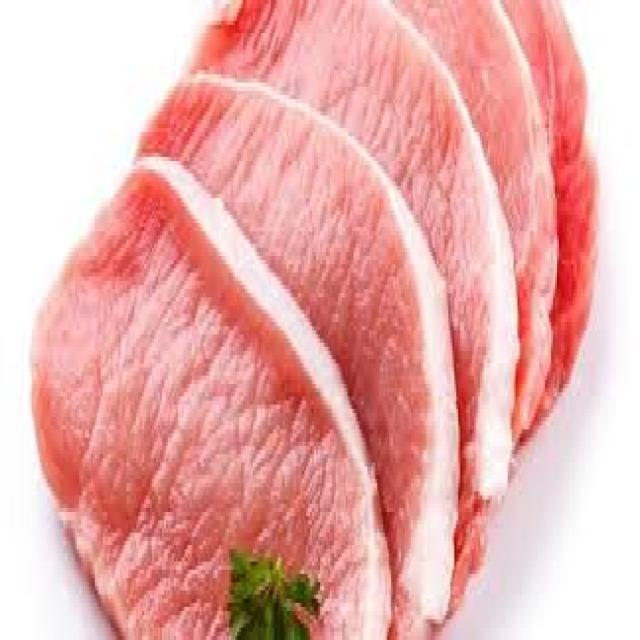Pork: (32, 74, 460, 640), (197, 0, 520, 547), (400, 0, 559, 440), (506, 0, 600, 427)
